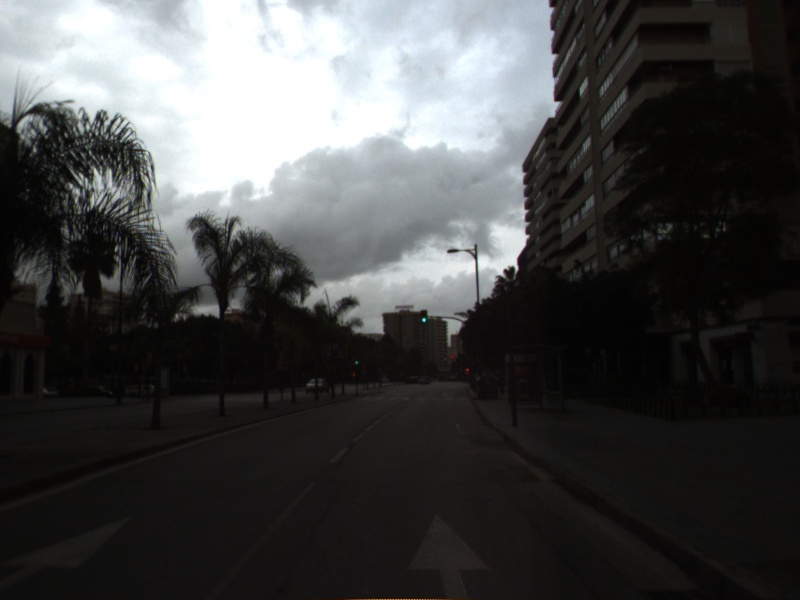STRAIGHT: (1, 511, 138, 592), (403, 511, 494, 600)
